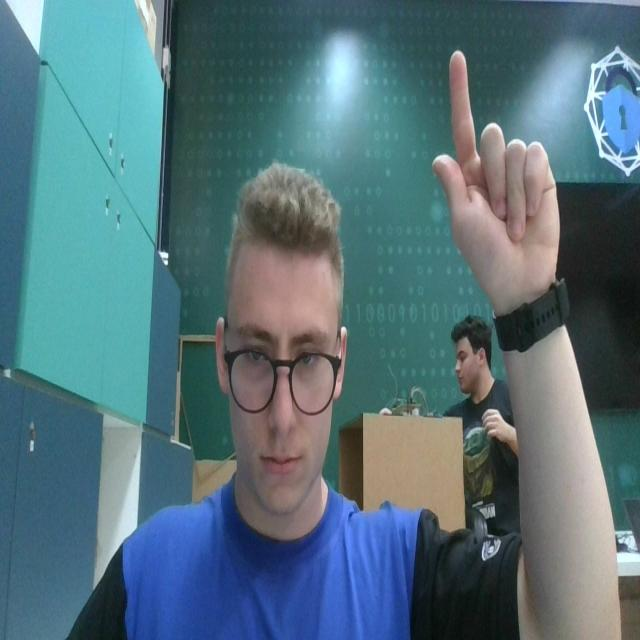G: (432, 50, 562, 292)
